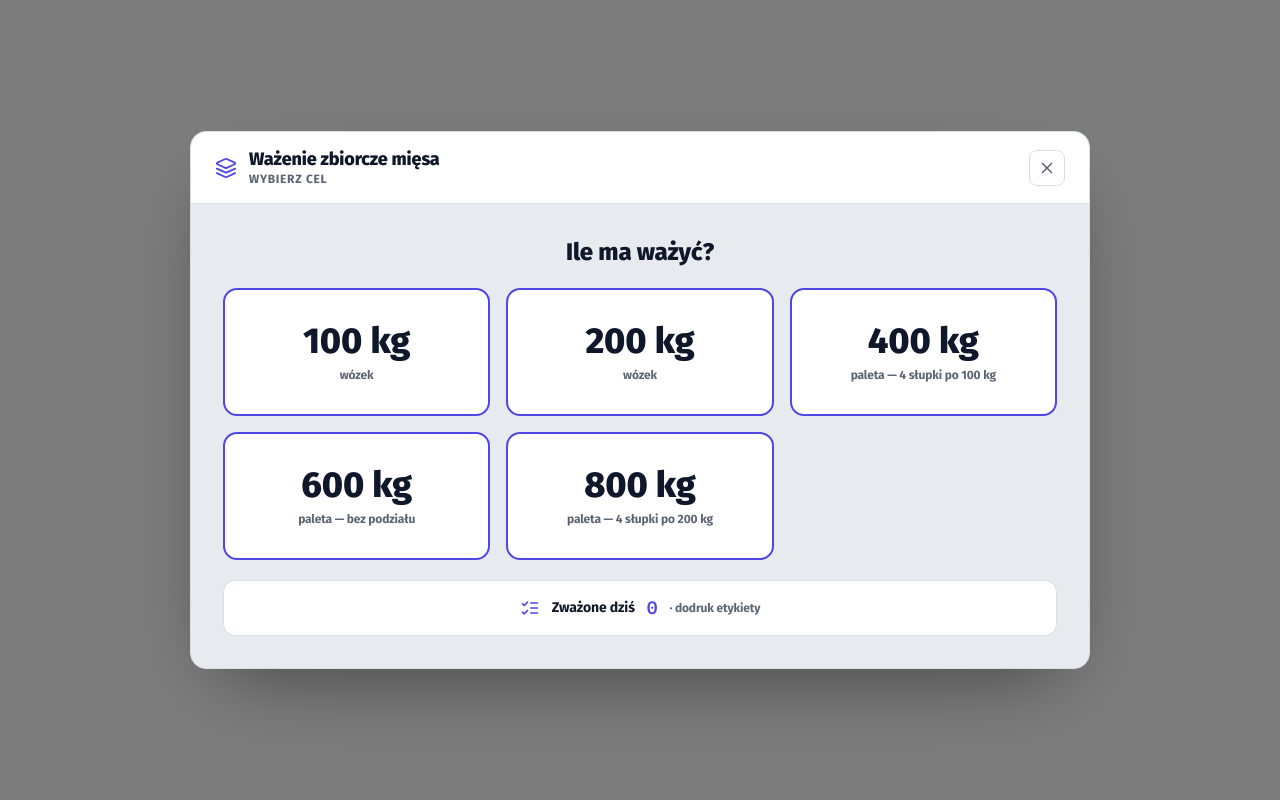
Test case: ważenie zbiorcze — przekroczenie celu › nadwyżka o dokładną tarę pojemników mówi, ile ich brakuje
Step 1. Click the button with test id "bw-cel-t200" → coordinates (640, 352), box [506,288,774,416]
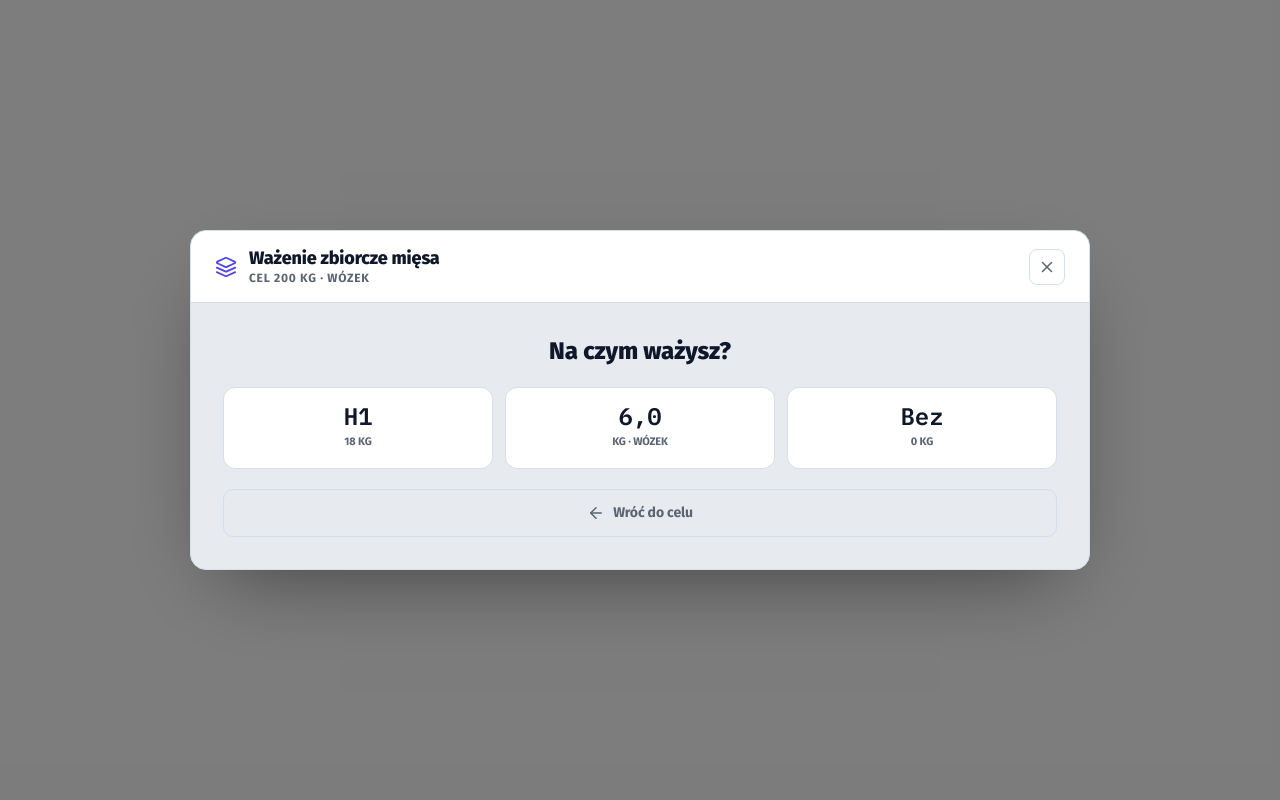
Step 2. Click the button "6,0 kg · wózek" → coordinates (640, 428), box [505,387,775,469]
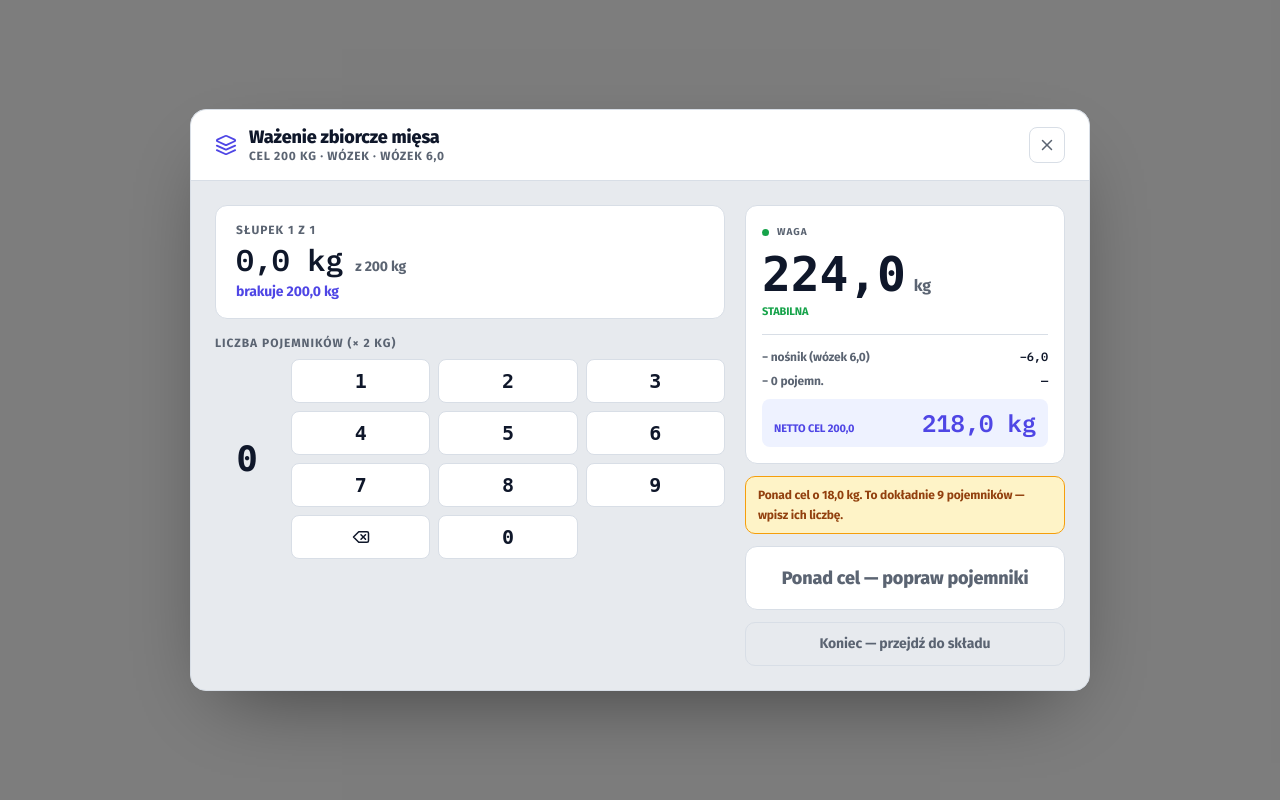
Check: the text with test id "bw-nadwyzka" shows "9 pojemników", box [758,488,1024,522]
